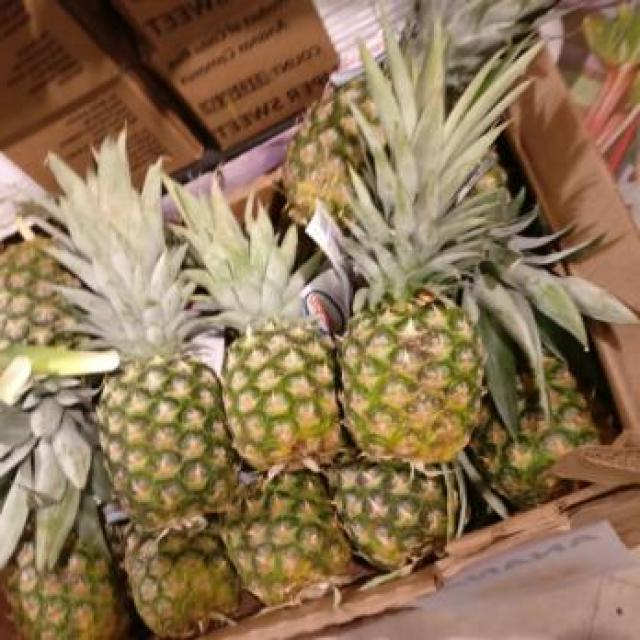pineapple: (336, 22, 535, 463), (42, 132, 236, 529), (167, 180, 340, 471), (0, 238, 119, 569), (468, 356, 598, 508), (220, 471, 352, 604), (284, 76, 378, 222), (402, 1, 552, 91), (329, 461, 445, 569), (124, 529, 238, 637), (8, 549, 129, 639)
